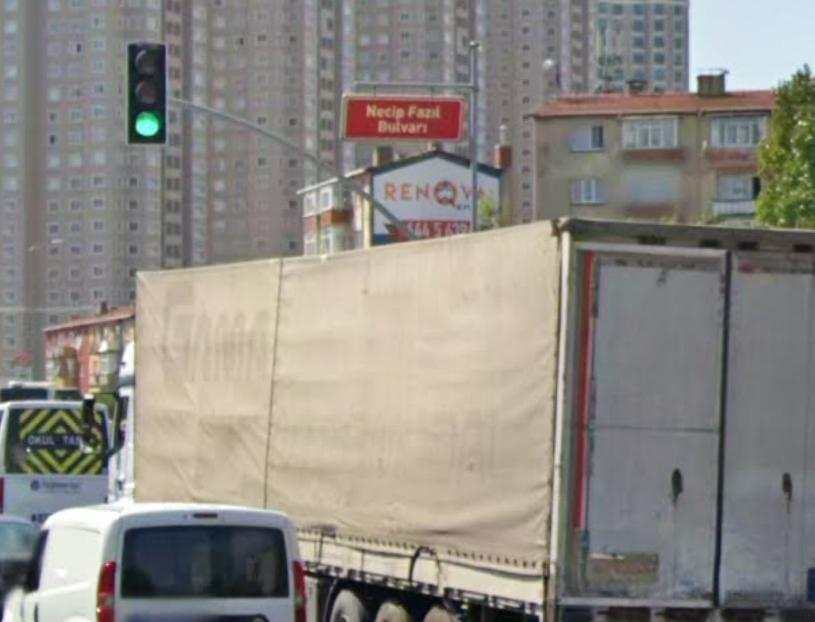greenlight: (125, 40, 167, 145)
